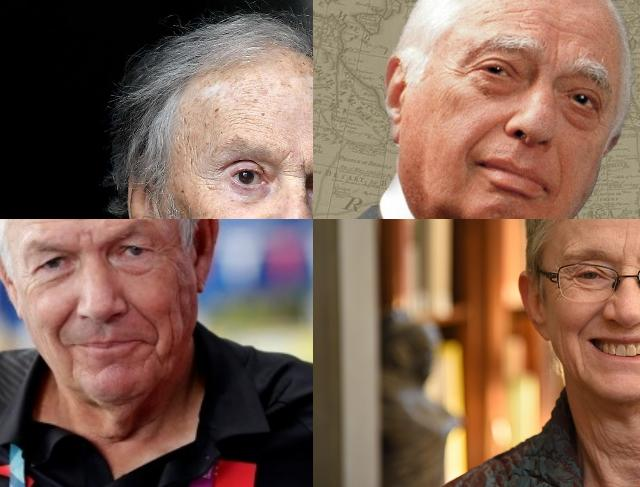chin: (140, 342, 162, 368), (66, 352, 78, 382)
crows_feet: (452, 58, 478, 84), (19, 266, 37, 294), (150, 244, 176, 262), (560, 270, 572, 290)
forehead: (228, 96, 262, 134), (516, 15, 540, 33)
frown_line: (282, 153, 306, 181), (73, 227, 97, 243), (551, 30, 561, 68), (618, 233, 628, 260), (636, 231, 640, 256)
gummy_smile: (52, 303, 78, 347), (133, 303, 163, 340), (467, 116, 495, 154), (573, 302, 603, 334), (552, 153, 570, 205)
masseter: (160, 306, 178, 350), (556, 326, 568, 358)
sad_smile: (574, 340, 590, 370)
